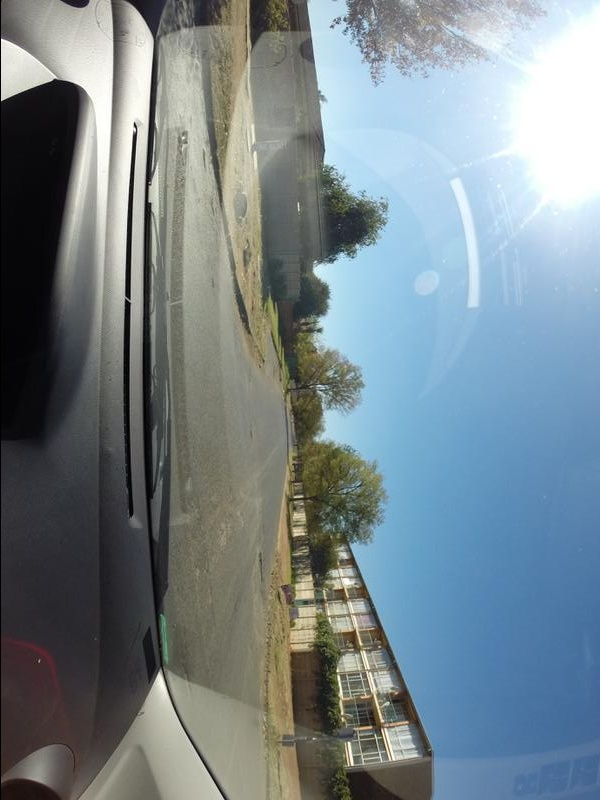pothole: (249, 552, 269, 596), (243, 423, 259, 450)
